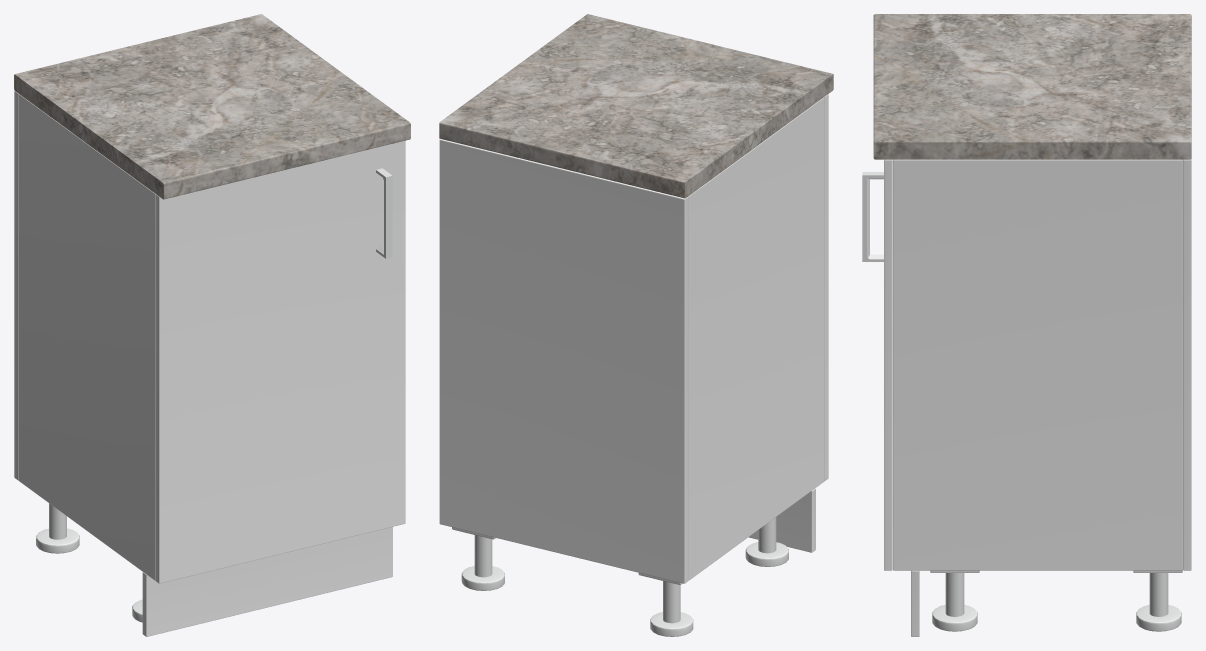
The model's file is kitchen6.glb.
3 views of the same model, side by side, from view 1: azimuth 30°, elevation 25°; view 2: azimuth 150°, elevation 25°; view 3: azimuth 270°, elevation 25° (orthographic). The views are drawn at different scales.
Visible parts, largest first — view 1: Object_4, Object_3, Object_2, Object_6, Object_7, Object_5; view 2: Object_3, Object_2, Object_7, Object_4, Object_6; view 3: Object_3, Object_2, Object_4, Object_7, Object_5, Object_6.
Part boxes in pixels (x1=…): Object_4: x1=155, y1=140, x2=405, y2=583; Object_3: x1=14, y1=91, x2=155, y2=580; Object_2: x1=14, y1=14, x2=410, y2=199; Object_6: x1=142, y1=527, x2=392, y2=636; Object_7: x1=36, y1=503, x2=142, y2=622; Object_5: x1=376, y1=168, x2=392, y2=258; Object_3: x1=439, y1=97, x2=824, y2=583; Object_2: x1=439, y1=14, x2=833, y2=198; Object_7: x1=461, y1=517, x2=788, y2=636; Object_4: x1=824, y1=94, x2=828, y2=481; Object_6: x1=749, y1=488, x2=815, y2=552; Object_3: x1=893, y1=159, x2=1191, y2=570; Object_2: x1=873, y1=14, x2=1191, y2=159; Object_4: x1=884, y1=159, x2=892, y2=570; Object_7: x1=932, y1=573, x2=1181, y2=631; Object_5: x1=862, y1=172, x2=883, y2=261; Object_6: x1=911, y1=570, x2=919, y2=636.
Bounding box in the file's own units: 0.4419 × 0.7983 × 0.4811.
7 materials, 7 textured.
